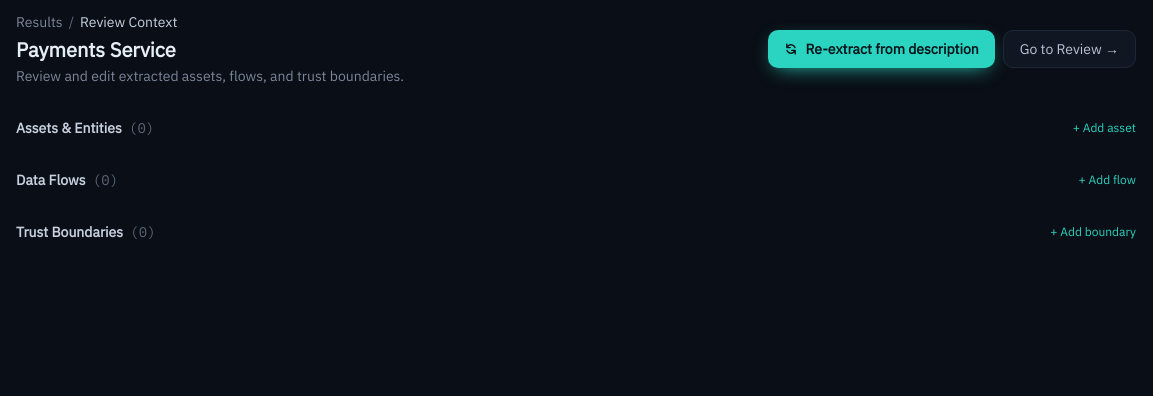
Test case: ReviewContext — assets CRUD › adds a new asset
expect the heading "Payments Service" is shown: met, box [16,36,176,63]
Click the button "+ Add asset": [1104, 128] box [1073,120,1136,136]
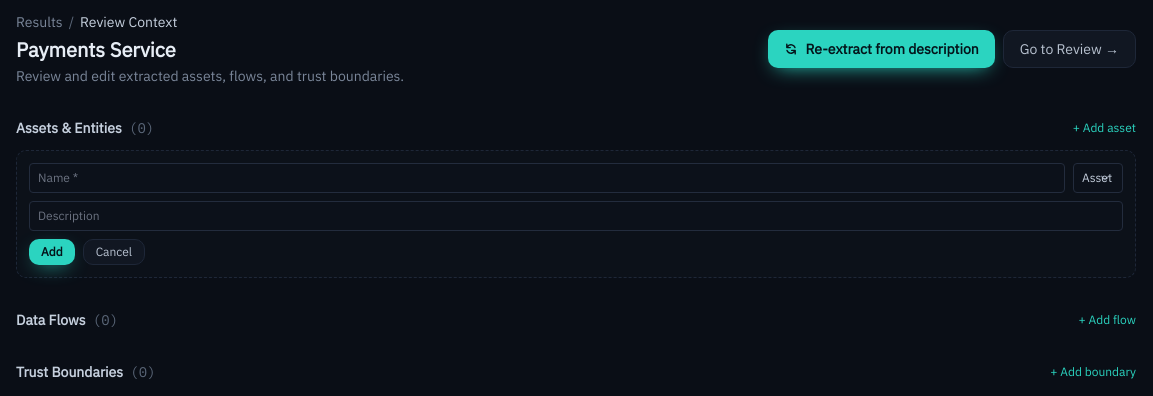
In the field named "New asset name": [547, 178] box [29,163,1065,193], type "New Asset"
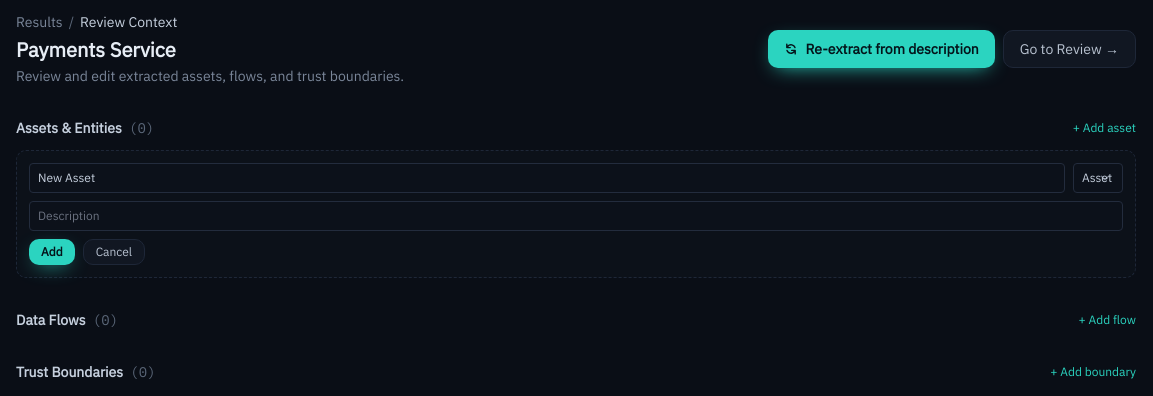
Click the button "Add": [52, 252] box [29,239,75,265]
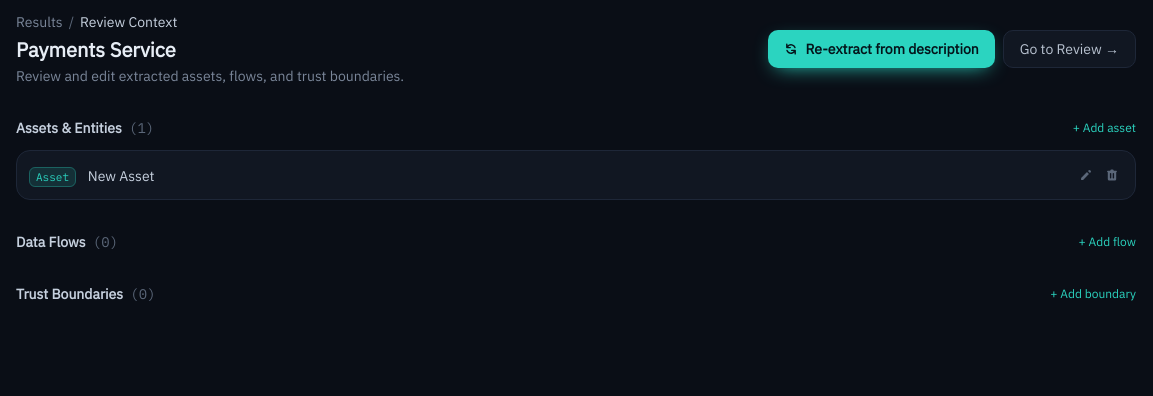
expect the text "New Asset" is shown: met, box [88,167,154,185]
